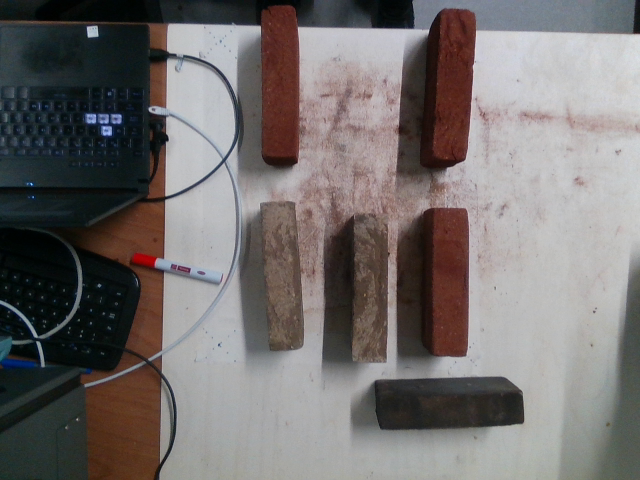brick-side: (258, 201, 300, 352), (435, 11, 476, 161), (263, 7, 296, 156), (354, 216, 387, 365), (435, 209, 468, 357), (382, 394, 522, 428)
